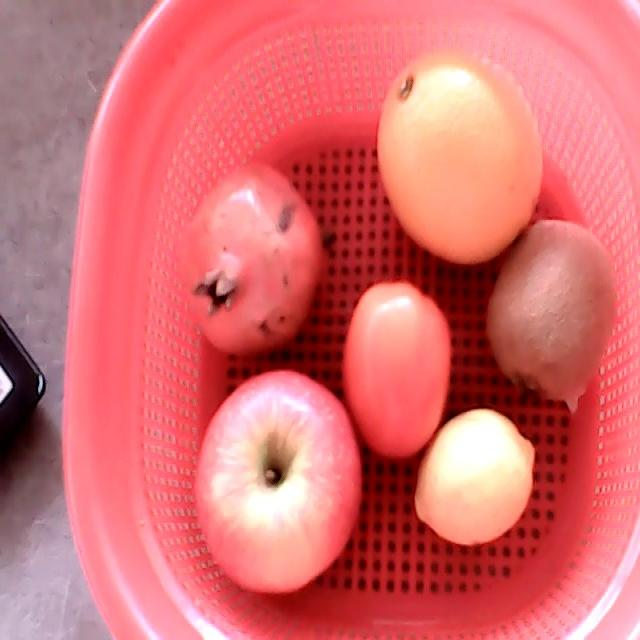apple: (196, 368, 362, 594)
kiwi: (485, 221, 618, 403)
lemon: (413, 411, 534, 546)
orange: (377, 48, 544, 264)
pomegranate: (184, 162, 322, 354)
tomato: (342, 282, 450, 465)
